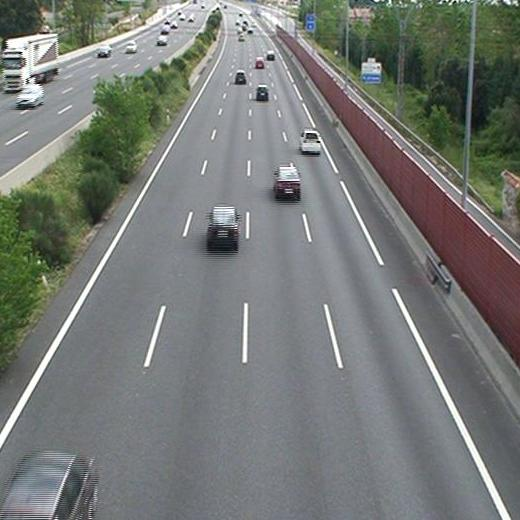car: (1, 452, 98, 520), (208, 206, 238, 245), (276, 166, 300, 195), (300, 130, 321, 152), (256, 86, 269, 98), (234, 71, 245, 83), (255, 58, 265, 68), (266, 51, 275, 59)
